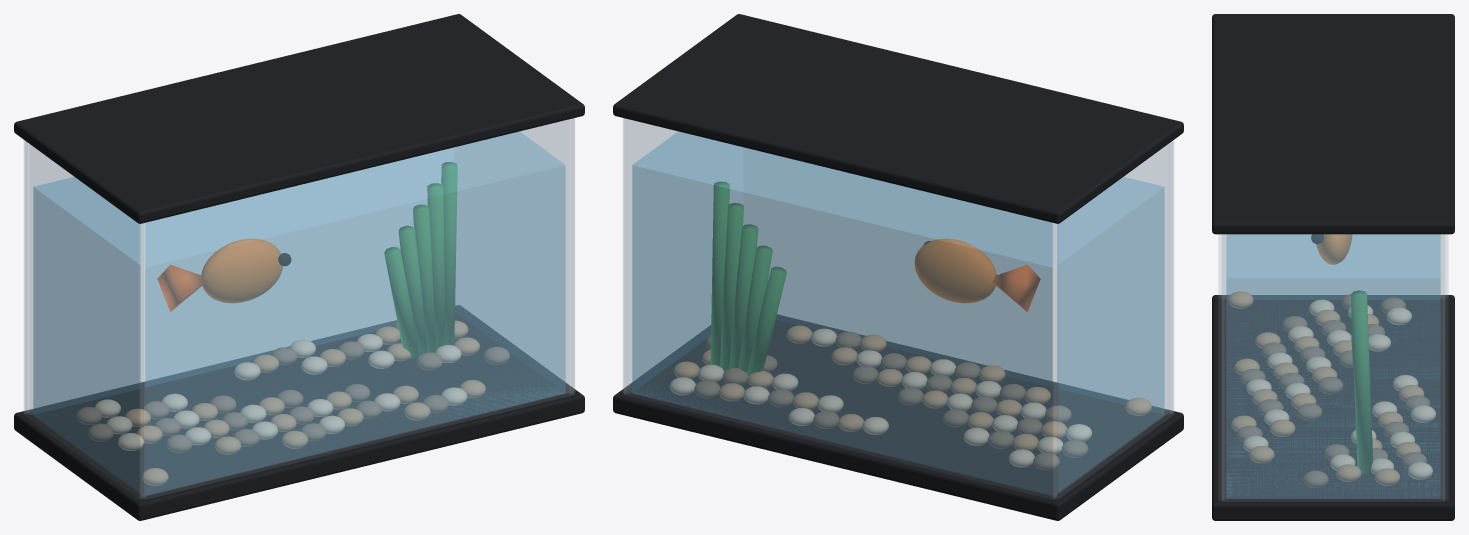
The model's file is pecera.glb.
The picture shows the model from 3 angles, left to right: view 1: azimuth 30°, elevation 25°; view 2: azimuth 150°, elevation 25°; view 3: azimuth 270°, elevation 25°; orthographic projection. The views are drawn at different scales.
Parts seen in each view (by area): view 1: Cube.006, Cube.002, Cube.005, Cube.004, Cube, pez, Cube.001, Cube.003, Cylinder.004, Cylinder.003, Cylinder.002, Cylinder (+1 smaller); view 2: Cube.006, Cube.003, Cube.005, Cube.004, Cube, pez, Cube.001, Cube.002, Cylinder.004, Cylinder.003, Cylinder.002, Cylinder.001 (+1 smaller); view 3: Cube.001, Cube.006, Cube.005, Cube.004, Cylinder.004, pez, Cube.002, Cube.003, Sphere, Sphere.008, Sphere.001, Sphere.003 (+8 smaller).
Boxes of the visible parts, x1,y1,x2,y2 form: Cube.006: [33, 131, 565, 494]; Cube.002: [141, 118, 573, 499]; Cube.005: [14, 14, 584, 223]; Cube.004: [14, 305, 584, 520]; Cube: [24, 140, 144, 498]; pez: [157, 238, 291, 311]; Cube.001: [521, 118, 574, 392]; Cube.003: [25, 141, 73, 412]; Cylinder.004: [441, 162, 457, 345]; Cylinder.003: [427, 183, 445, 349]; Cylinder.002: [413, 204, 436, 352]; Cylinder: [384, 247, 418, 358]; Cube.006: [632, 131, 1164, 494]; Cube.003: [624, 118, 1056, 499]; Cube.005: [613, 14, 1183, 223]; Cube.004: [613, 314, 1183, 520]; Cube: [1053, 140, 1173, 498]; pez: [914, 238, 1040, 311]; Cube.001: [623, 118, 676, 392]; Cube.002: [1124, 141, 1172, 412]; Cylinder.004: [710, 181, 729, 366]; Cylinder.003: [720, 203, 743, 371]; Cylinder.002: [729, 224, 758, 368]; Cylinder.001: [738, 245, 772, 372]; Cube.001: [1222, 234, 1444, 501]; Cube.006: [1226, 234, 1440, 498]; Cube.005: [1212, 14, 1454, 234]; Cube.004: [1212, 295, 1454, 520]; Cylinder.004: [1351, 290, 1372, 473]; pez: [1311, 234, 1352, 264]; Cube.002: [1218, 234, 1221, 499]; Cube.003: [1445, 234, 1448, 499]; Sphere: [1228, 291, 1253, 308]; Sphere.008: [1407, 462, 1432, 479]; Sphere.001: [1297, 403, 1322, 420]; Sphere.003: [1249, 446, 1274, 463].
Size of the model in its own units: 1.56 by 1.03 by 0.76.
